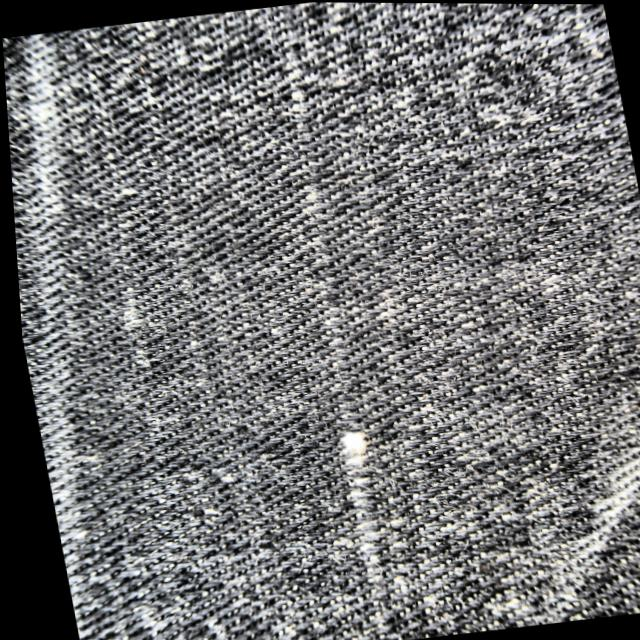Hole: (285, 194, 390, 592)
